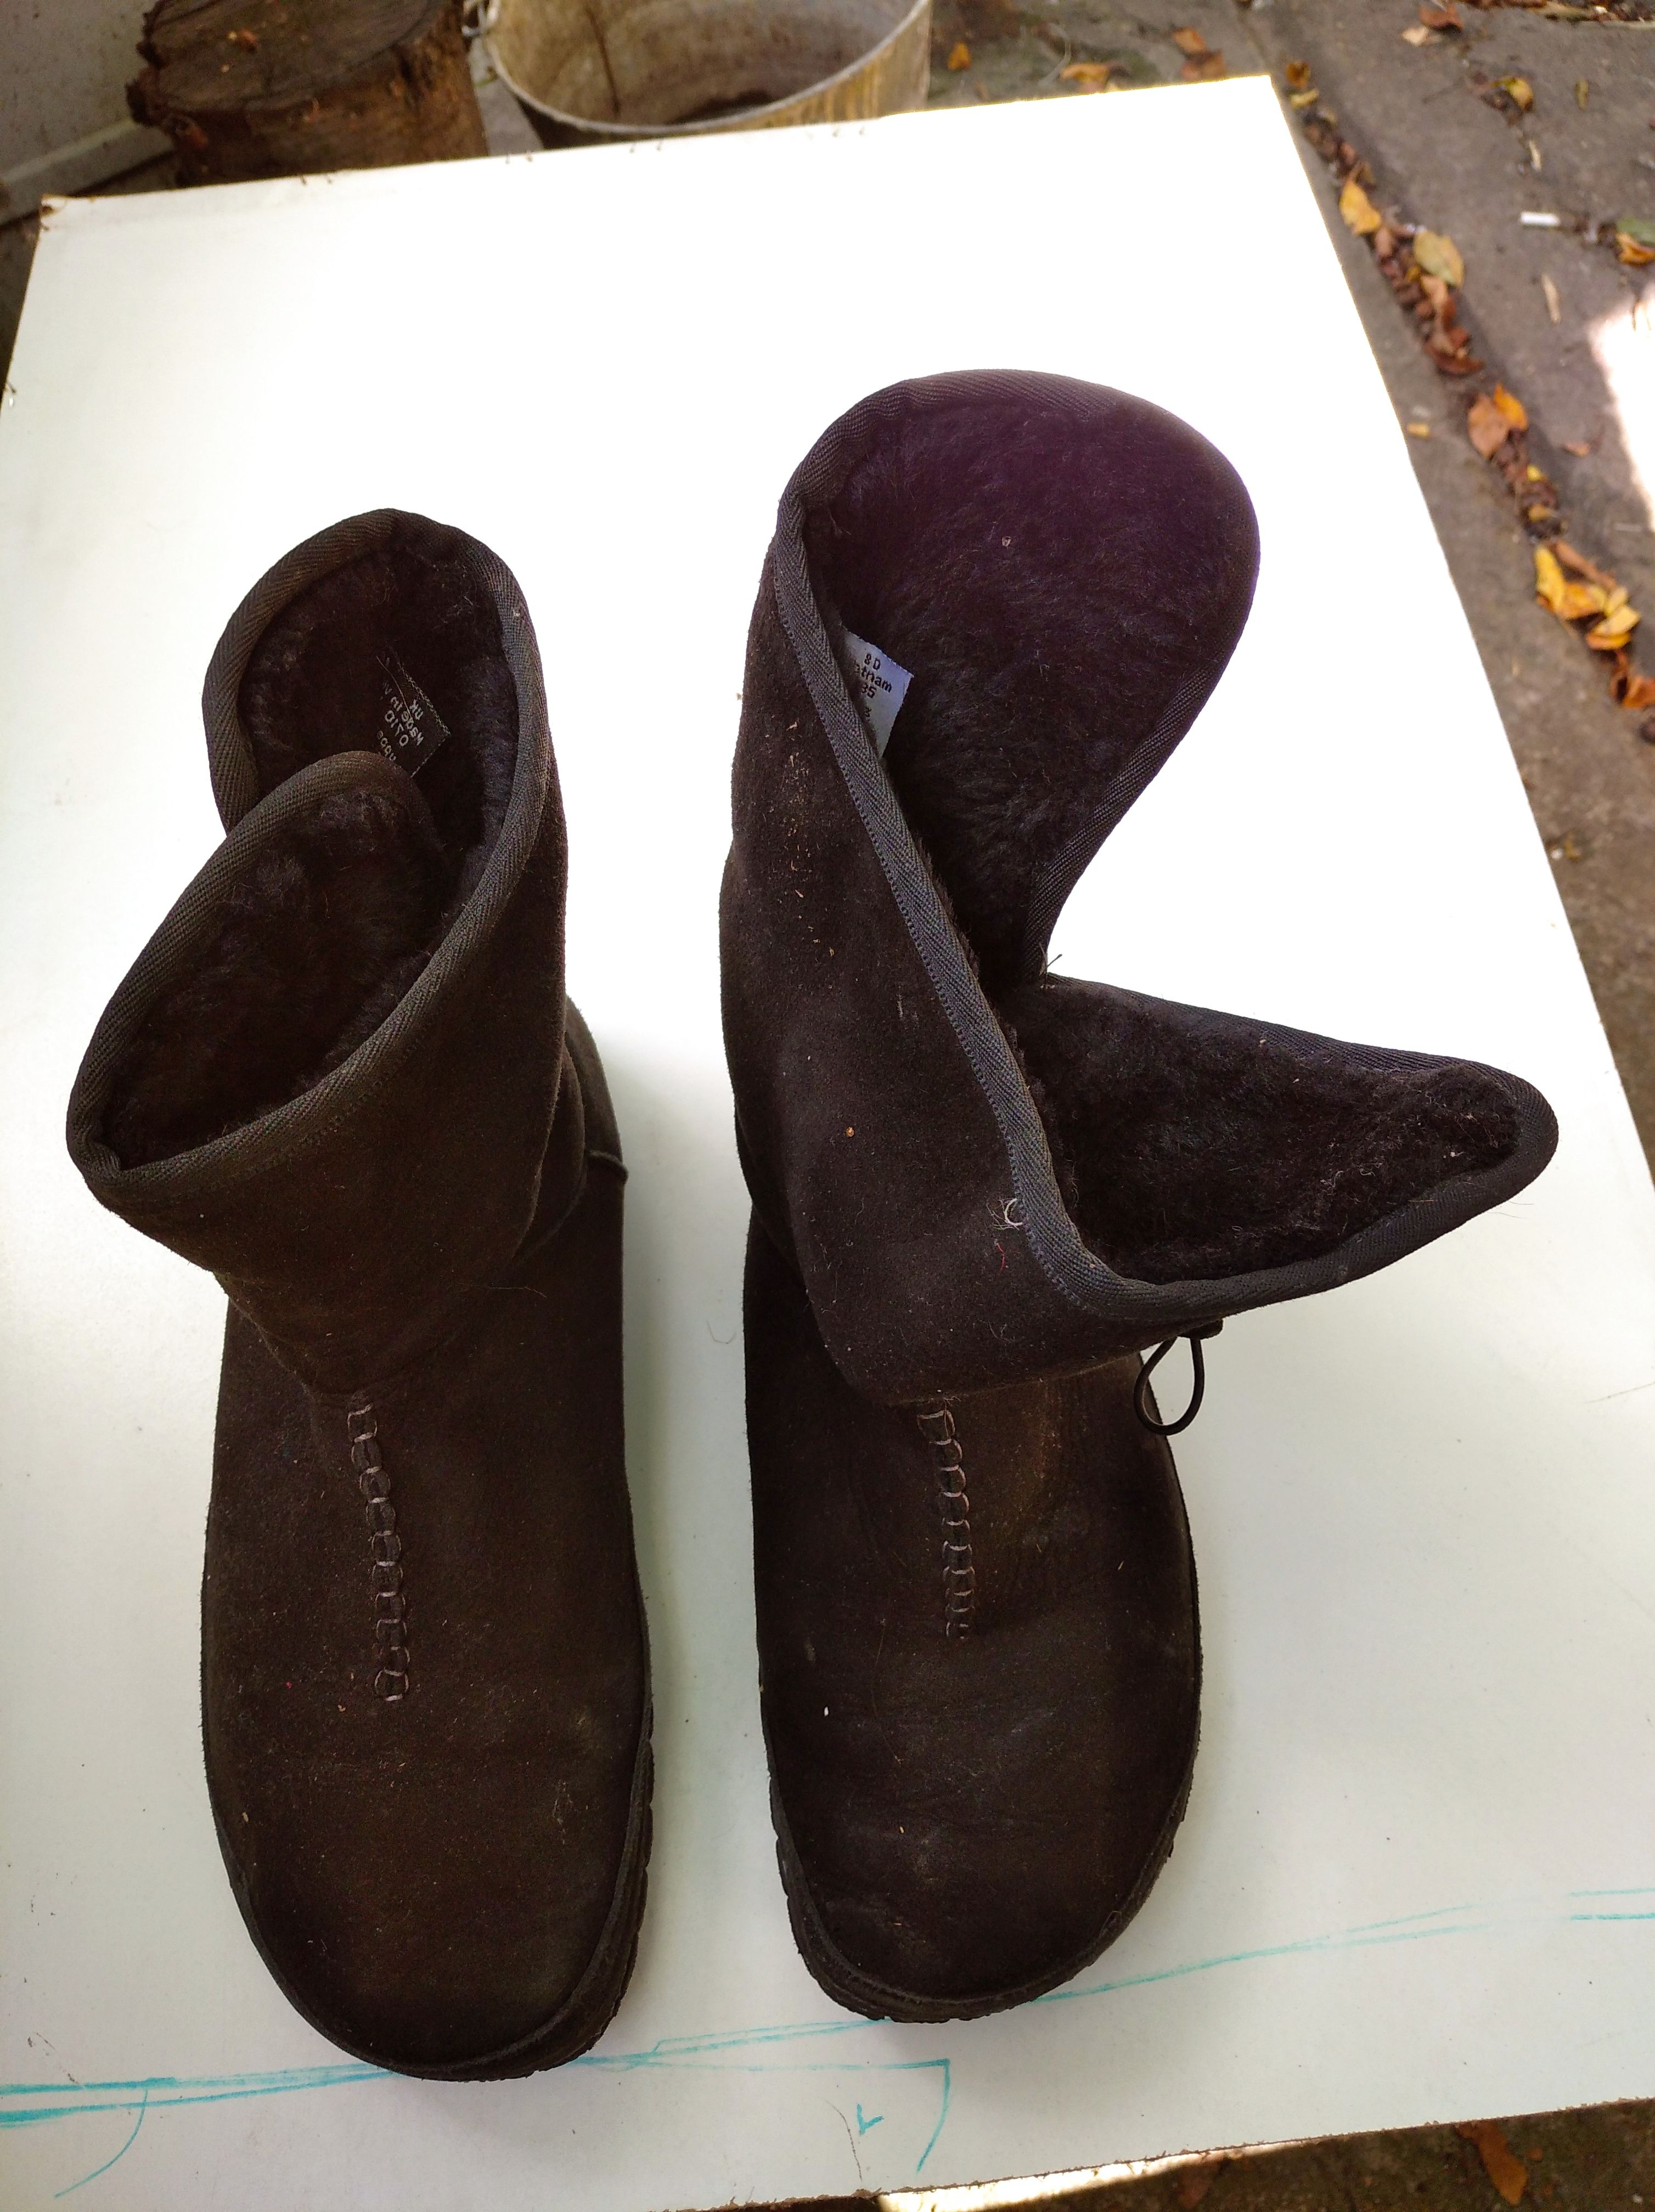clothes: (68, 332, 1530, 2097)
